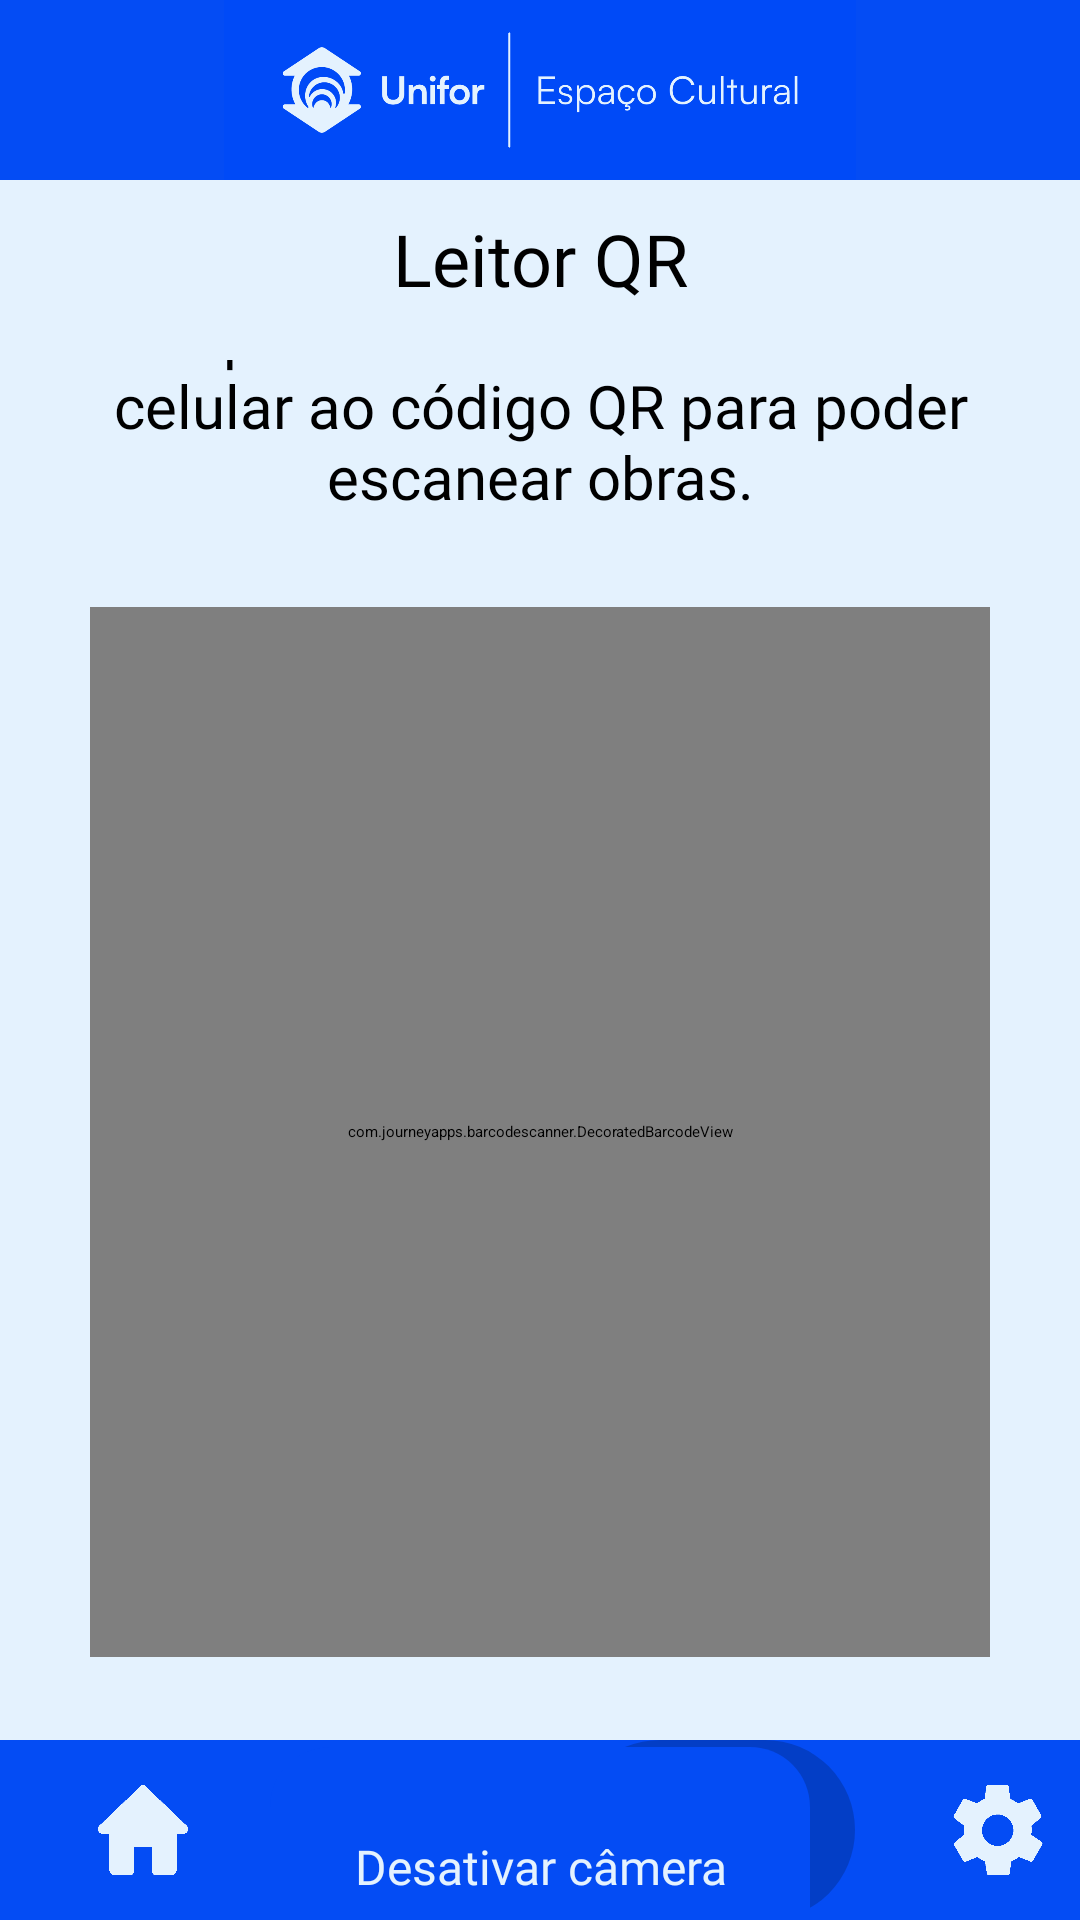

Where icons sit on this 1080 × 1920 app screen, as (x1, y1, x2, y2):
home: (98, 1785, 188, 1875)
settings: (954, 1785, 1043, 1875)
